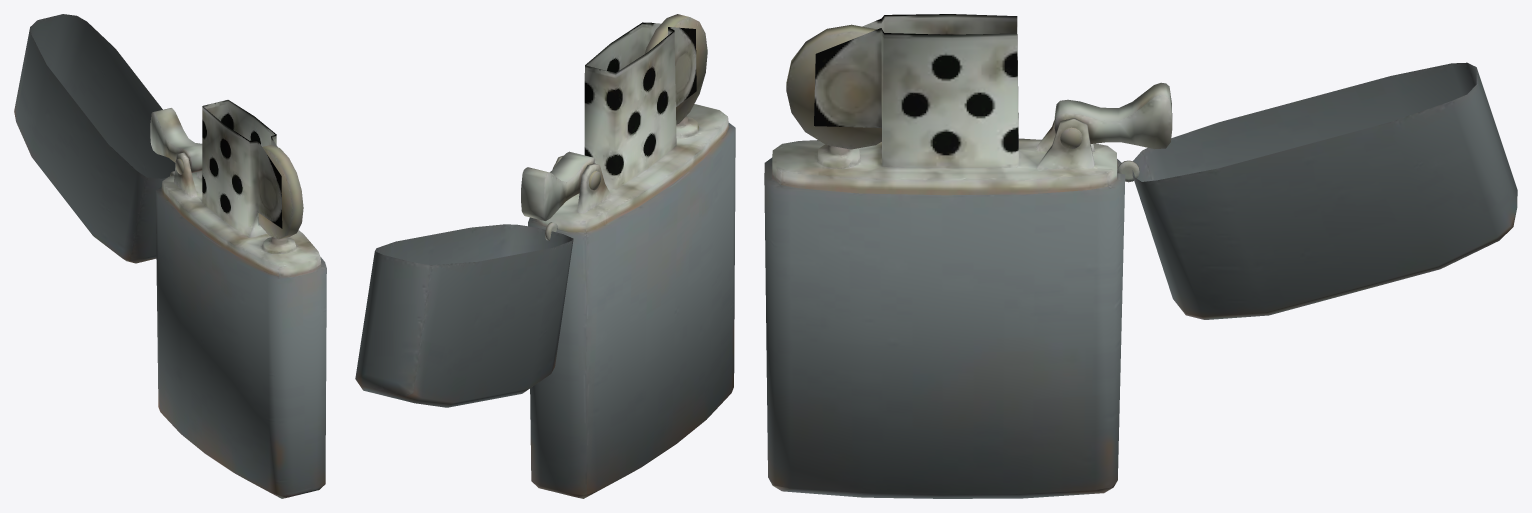
File: s_mechero.glb
3 views of the same model, side by side, from view 1: azimuth 30°, elevation 25°; view 2: azimuth 150°, elevation 25°; view 3: azimuth 270°, elevation 25° (orthographic). The views are drawn at different scales.
Parts seen in each view (by area): view 1: Cube.002_Body LP.003_0; view 2: Cube.002_Body LP.003_0; view 3: Cube.002_Body LP.003_0.
Boxes of the visible parts, left/top/right/bottom form: Cube.002_Body LP.003_0: left=14, top=14, right=326, bottom=498; Cube.002_Body LP.003_0: left=355, top=14, right=735, bottom=498; Cube.002_Body LP.003_0: left=764, top=14, right=1517, bottom=498.
Bounding box in the file's own units: 0.0138 × 0.055 × 0.0817.
Materials: 1 (1 with a texture image).
